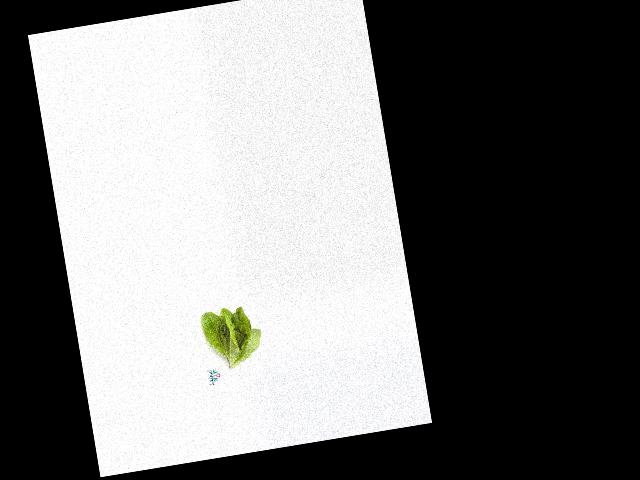lettuce: (200, 300, 267, 372)
